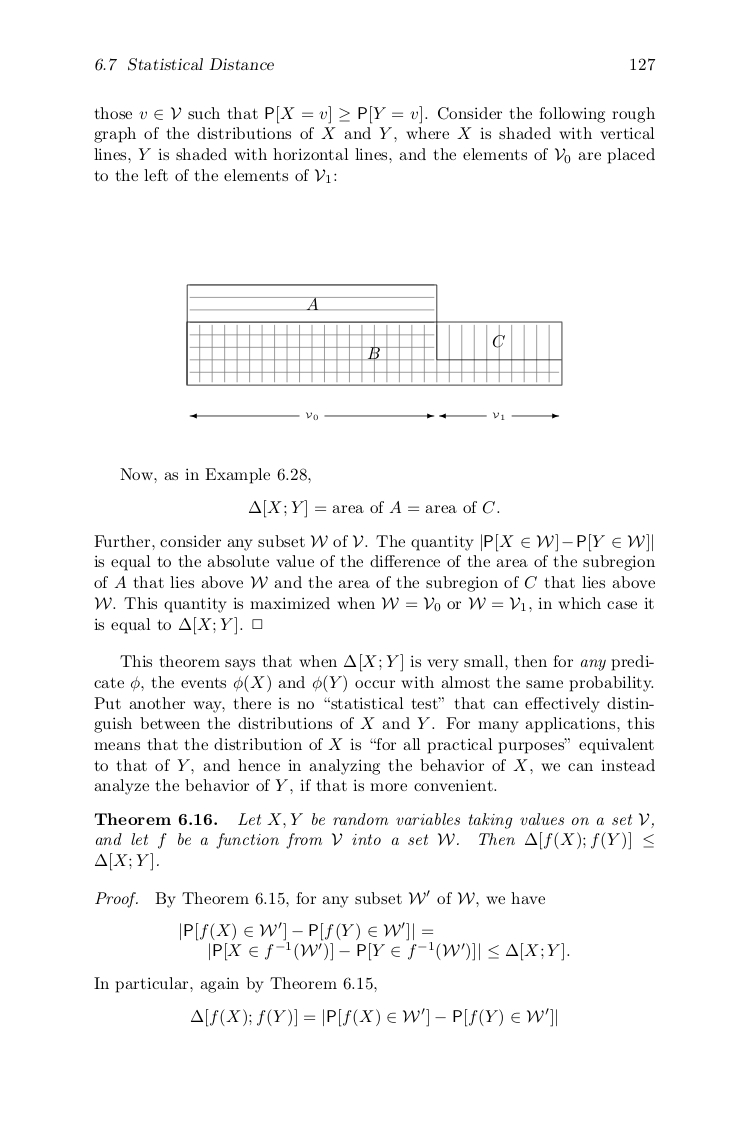figure: (186, 284, 562, 420)
formula: (180, 921, 569, 961), (191, 1007, 556, 1027), (249, 499, 499, 518)
